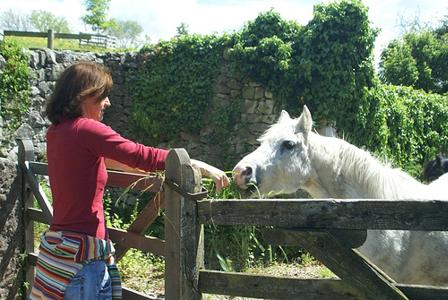person: (32, 60, 229, 300)
